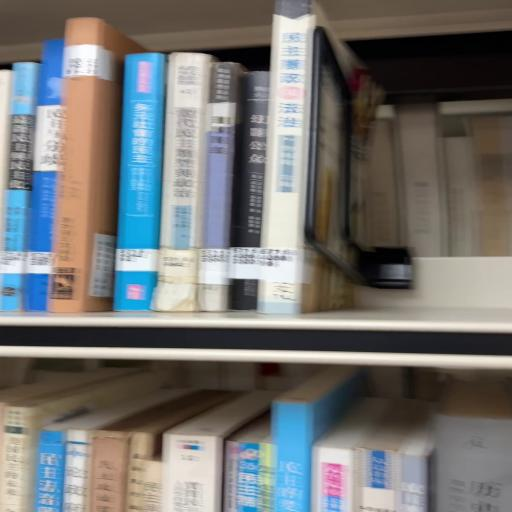reverse: (48, 17, 146, 313)
